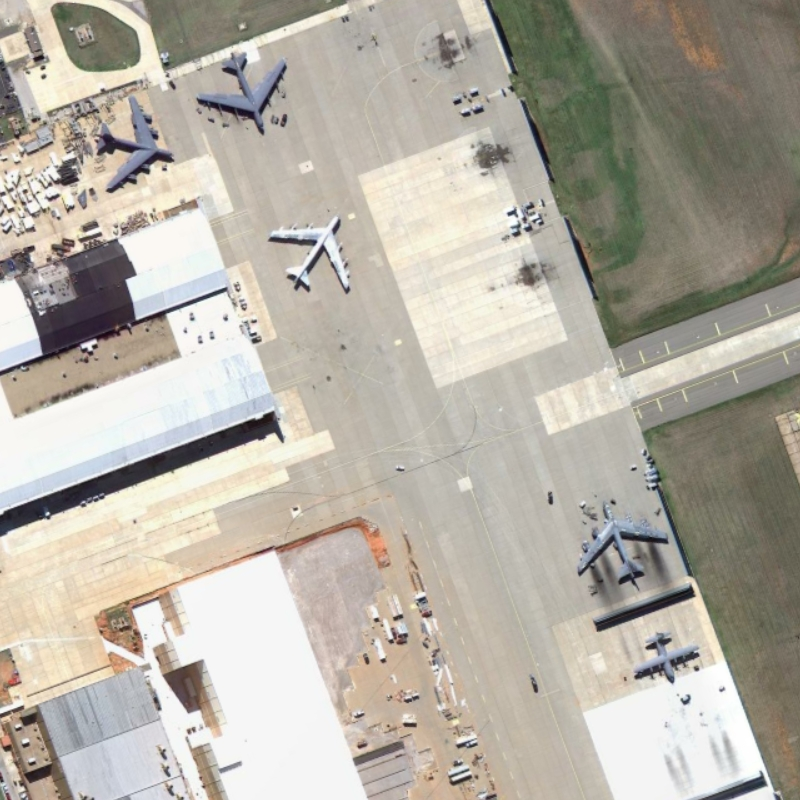A2: (629, 626, 704, 689)
A8: (88, 88, 181, 196), (572, 494, 672, 589), (188, 49, 292, 139), (263, 205, 357, 300)
